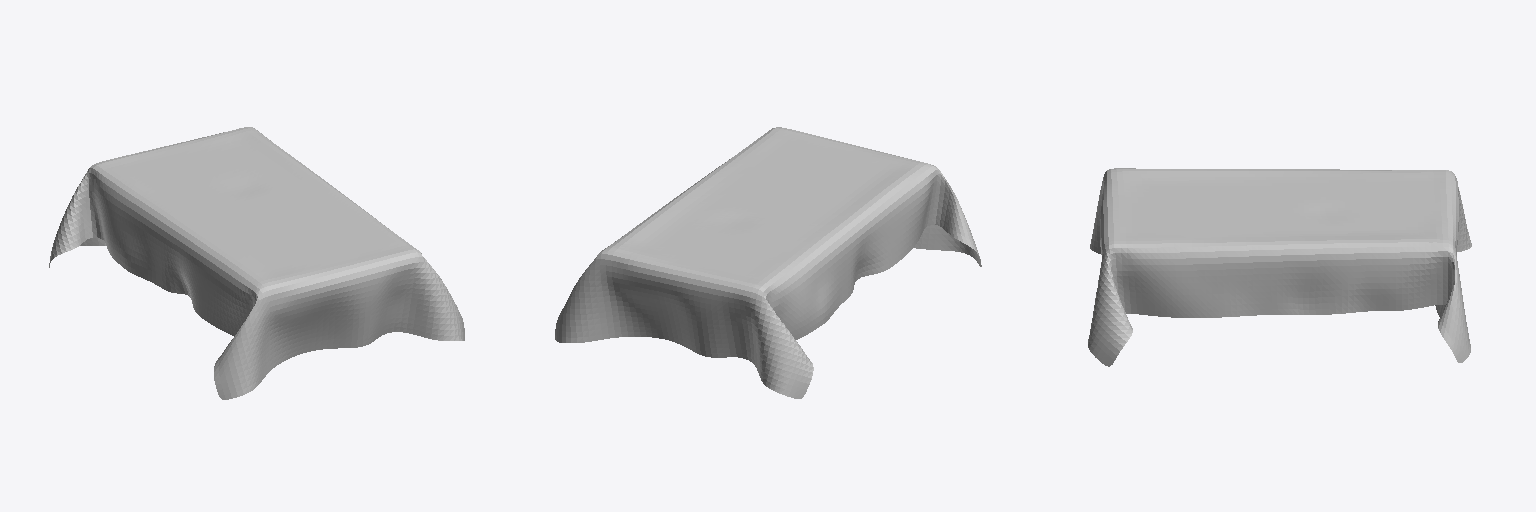
Rendered from nape.obj.
The picture shows the model from 3 angles: view 1: azimuth 30°, elevation 25°; view 2: azimuth 150°, elevation 25°; view 3: azimuth 270°, elevation 25°; orthographic projection.
Visible parts, largest first — view 1: 3_Plane.002; view 2: 3_Plane.002; view 3: 3_Plane.002.
Boxes of the visible parts, x1,y1,x2,y2 form: 3_Plane.002: [49, 127, 464, 399]; 3_Plane.002: [555, 127, 981, 398]; 3_Plane.002: [1088, 168, 1471, 366].
Bounding box in the file's own units: 3.93 × 1.5 × 5.18.